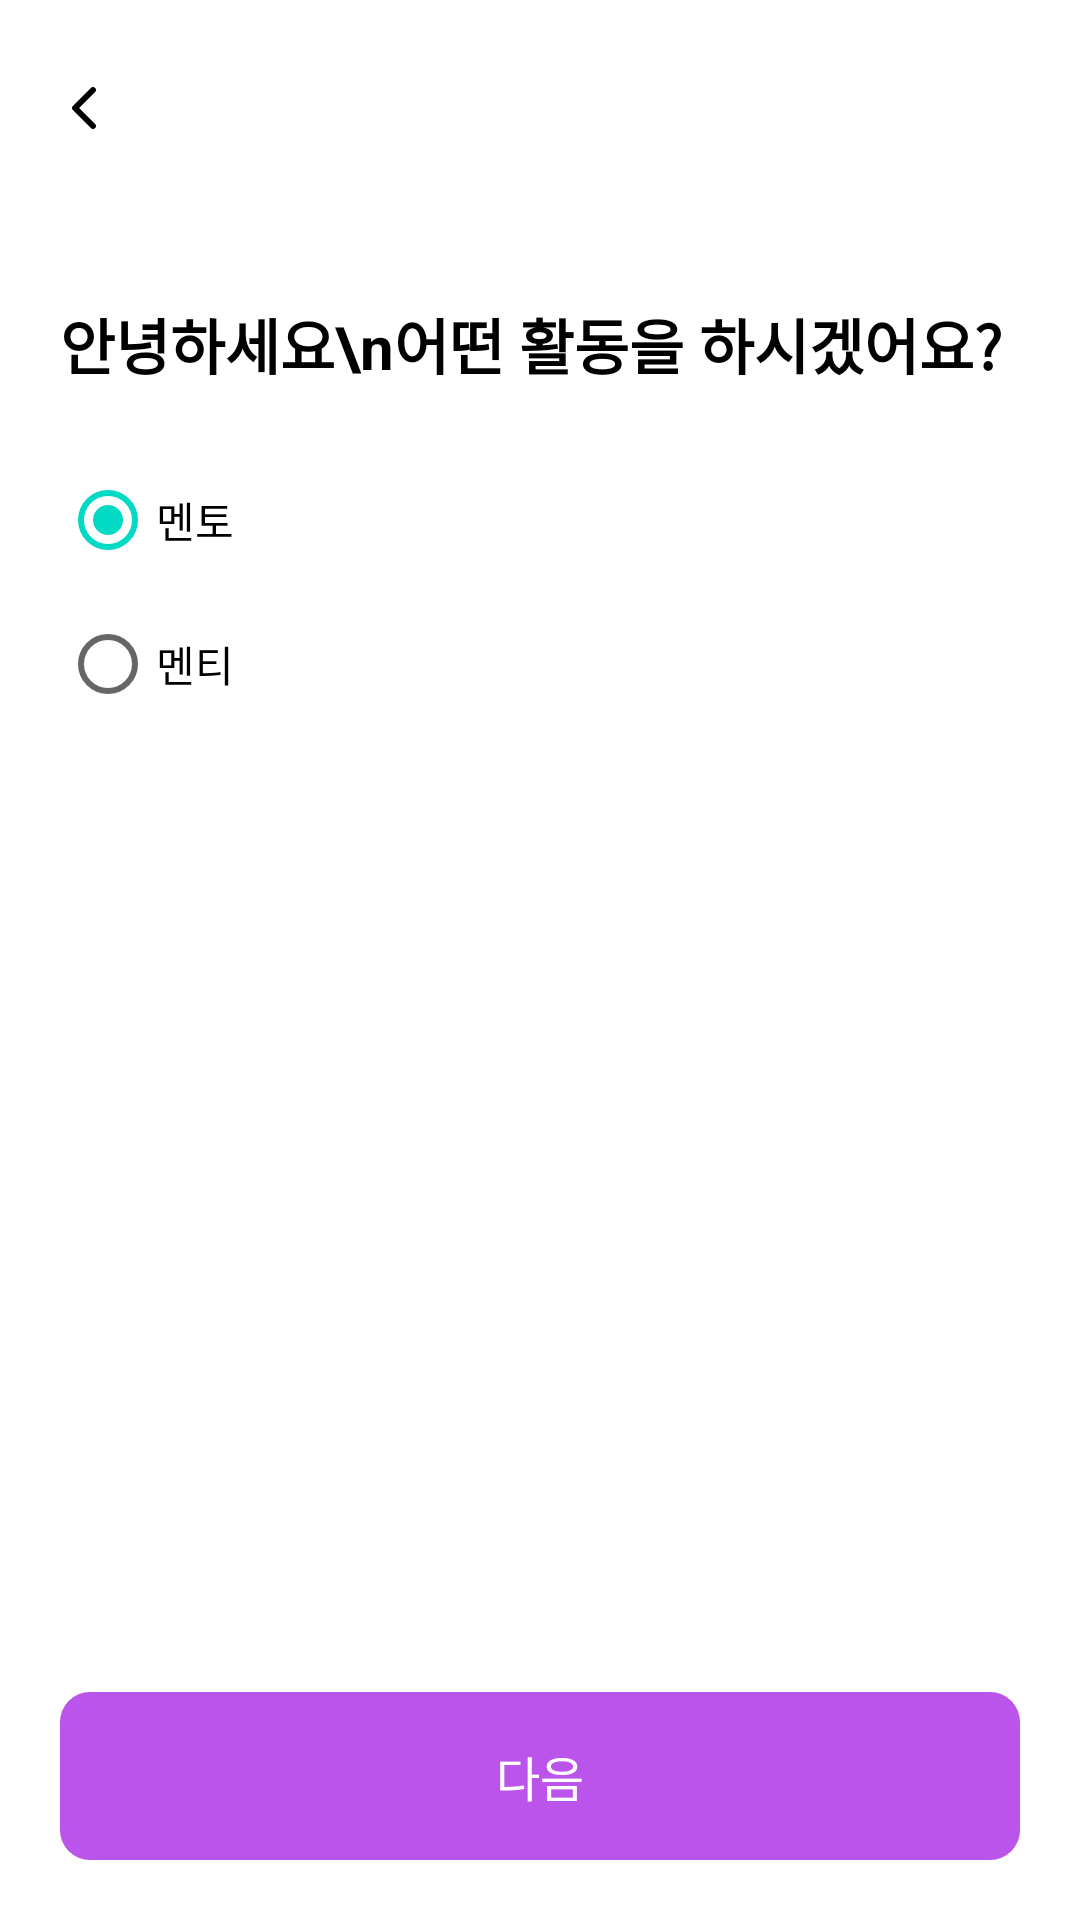

Locate icon controls on the screen. Image size 1080px x 1920px, boxes as [x1, y1, x2, y2].
back: [72, 87, 96, 129]
